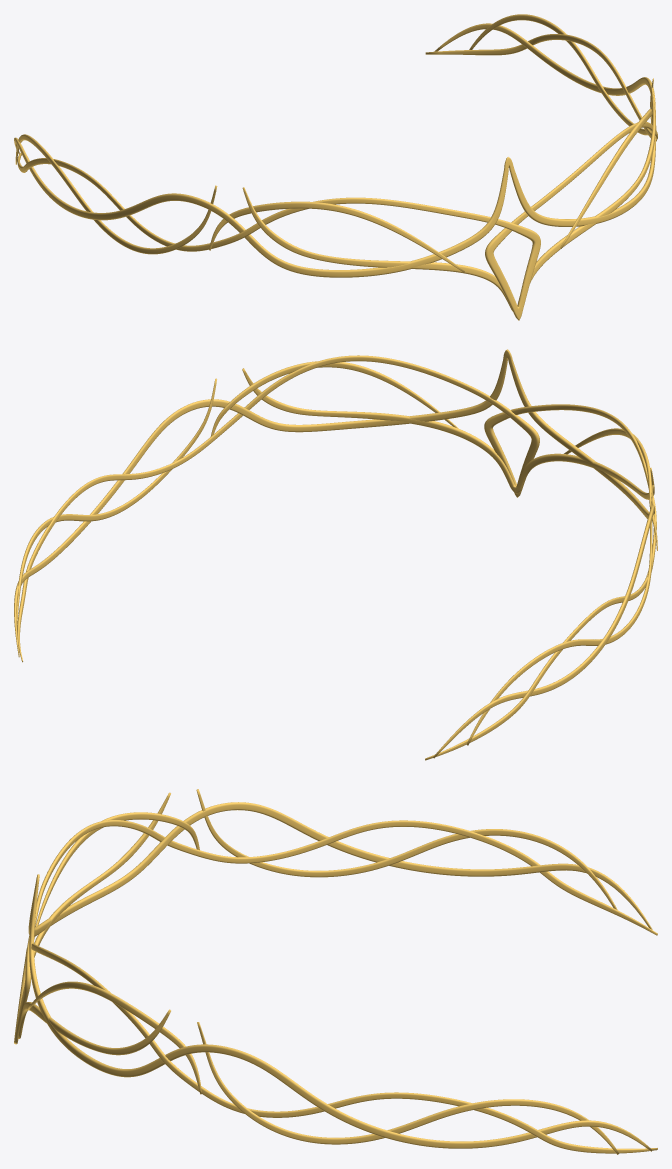
Rendered from diadem.glb.
The picture shows the model from 3 angles, top to bottom: view 1: azimuth 30°, elevation 25°; view 2: azimuth 150°, elevation 25°; view 3: azimuth 270°, elevation 25°; orthographic projection. The views are drawn at different scales.
Parts seen in each view (by area): view 1: diadema.; view 2: diadema.; view 3: diadema..
Boxes of the visible parts, left/top/right/bottom form: diadema.: left=14, top=14, right=657, bottom=320; diadema.: left=14, top=349, right=657, bottom=760; diadema.: left=14, top=789, right=657, bottom=1154.
Size of the model in its own units: 5.17 by 1.49 by 5.11.
